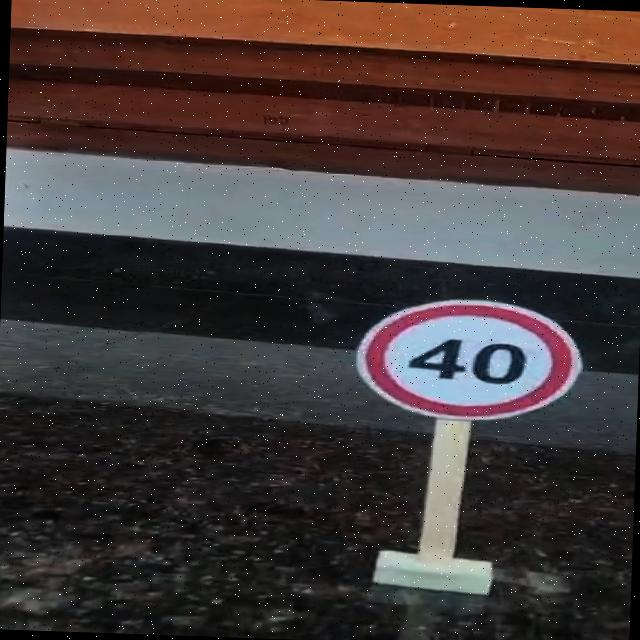Speed40: (348, 290, 594, 430)
